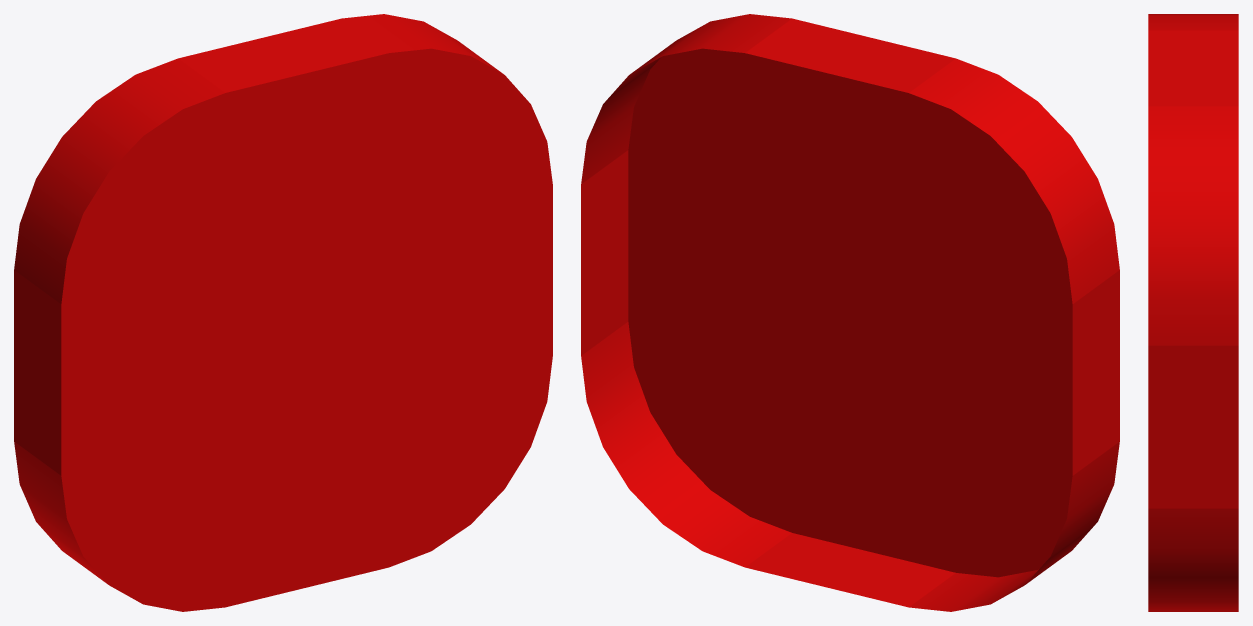
The model's file is original-13.obj.
The picture shows the model from 3 angles, left to right: view 1: azimuth 30°, elevation 25°; view 2: azimuth 150°, elevation 25°; view 3: azimuth 270°, elevation 25°; orthographic projection. The views are drawn at different scales.
Parts seen in each view (by area): view 1: button1/button/mesh16/mesh16-geometry#mesh16-geometry; view 2: button1/button/mesh16/mesh16-geometry#mesh16-geometry; view 3: button1/button/mesh16/mesh16-geometry#mesh16-geometry.
Boxes of the visible parts, x1,y1,x2,y2 form: button1/button/mesh16/mesh16-geometry#mesh16-geometry: (14,14,552,611); button1/button/mesh16/mesh16-geometry#mesh16-geometry: (581,14,1119,611); button1/button/mesh16/mesh16-geometry#mesh16-geometry: (1148,14,1238,611).
Bounding box in the file's own units: 0.0476 × 0.0476 × 0.00793.
